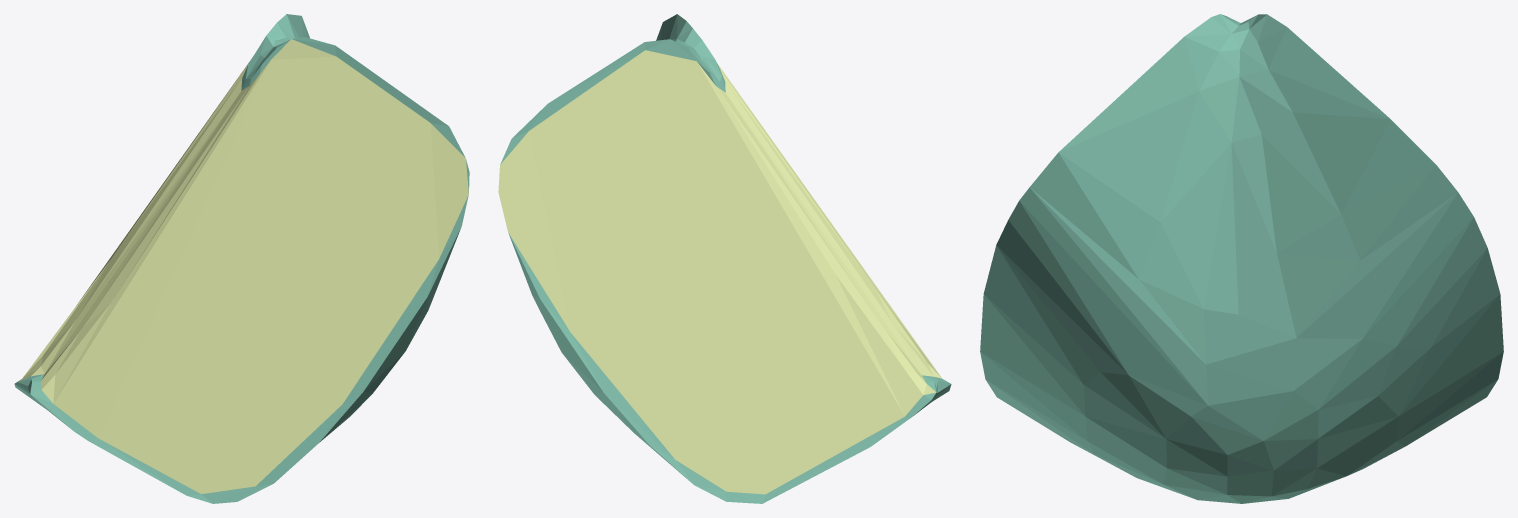
The model's file is talking tree fruit piece.glb.
3 views of the same model, side by side, from view 1: azimuth 30°, elevation 25°; view 2: azimuth 150°, elevation 25°; view 3: azimuth 270°, elevation 25° (orthographic). The views are drawn at different scales.
Visible parts, largest first — view 1: Cube; view 2: Cube; view 3: Cube.
Part boxes in pixels (bbox=[...]): Cube: bbox=[14, 14, 469, 503]; Cube: bbox=[498, 14, 951, 503]; Cube: bbox=[980, 14, 1503, 503].
Bounding box in the file's own units: 0.0844 × 0.0801 × 0.0801.
